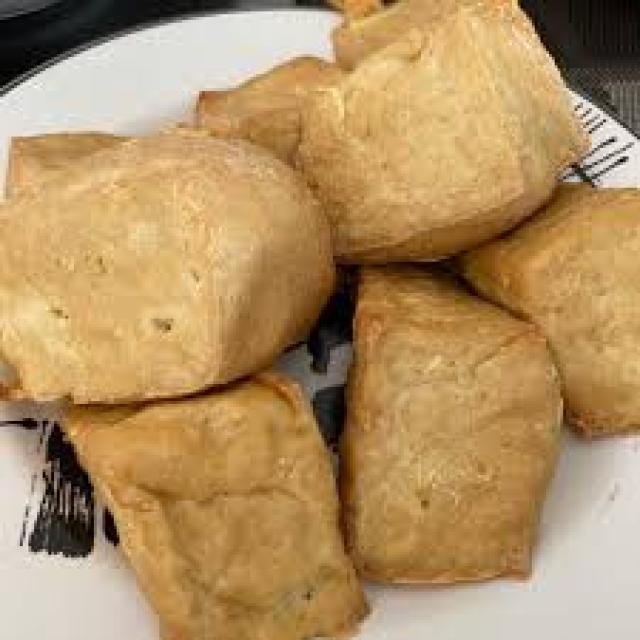tahu: (1, 123, 308, 398), (59, 384, 377, 640), (212, 22, 556, 255), (329, 272, 557, 586)
